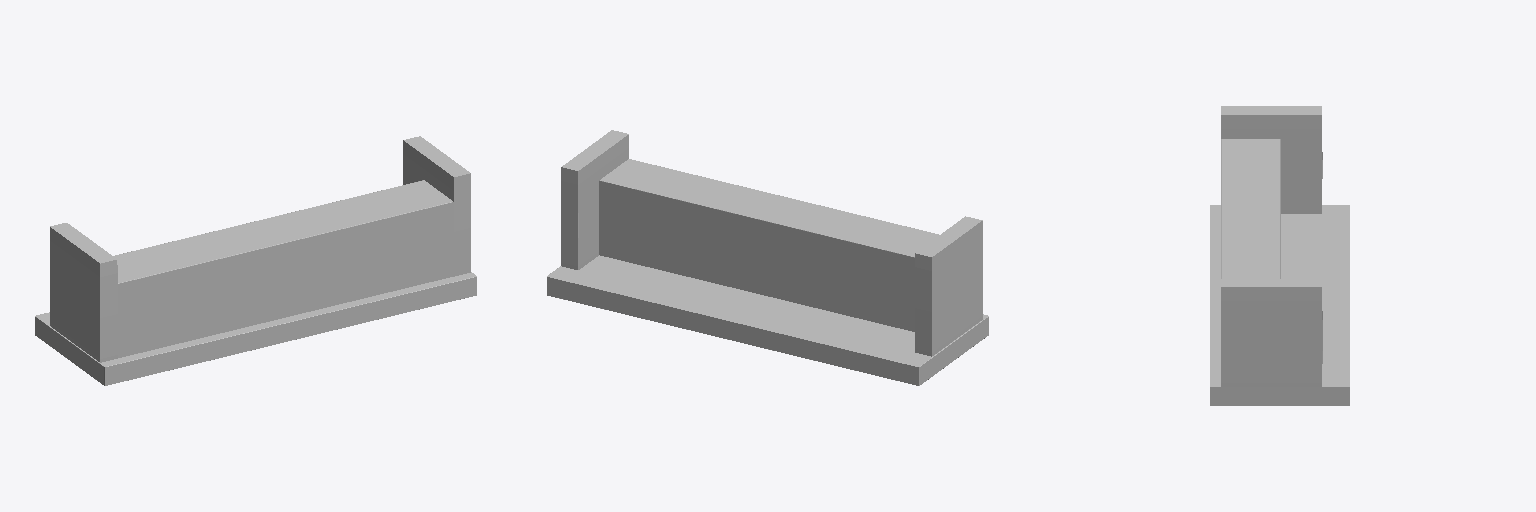
Rendered from frontSeatHP.obj.
The picture shows the model from 3 angles: view 1: azimuth 30°, elevation 25°; view 2: azimuth 150°, elevation 25°; view 3: azimuth 270°, elevation 25°; orthographic projection.
Parts seen in each view (by area): view 1: driverSeat pCube92, pasted__pCube7, pCube91 driverSeat, driverSeat pCube93; view 2: driverSeat pCube92, pasted__pCube7, pCube91 driverSeat, driverSeat pCube93; view 3: pasted__pCube7, driverSeat pCube93, driverSeat pCube92, pCube91 driverSeat.
Part boxes in pixels (bbox=[...]): driverSeat pCube92: bbox=[113, 180, 453, 357]; pasted__pCube7: bbox=[35, 272, 476, 385]; pCube91 driverSeat: bbox=[50, 223, 117, 362]; driverSeat pCube93: bbox=[403, 136, 470, 276]; driverSeat pCube92: bbox=[599, 159, 938, 331]; pasted__pCube7: bbox=[547, 255, 988, 385]; pCube91 driverSeat: bbox=[915, 216, 982, 356]; driverSeat pCube93: bbox=[561, 130, 628, 269]; pasted__pCube7: bbox=[1210, 205, 1349, 405]; driverSeat pCube93: bbox=[1221, 279, 1322, 386]; driverSeat pCube92: bbox=[1221, 139, 1280, 278]; pCube91 driverSeat: bbox=[1221, 106, 1322, 213].
Bounding box in the file's own units: 7.63 × 2.31 × 2.5.